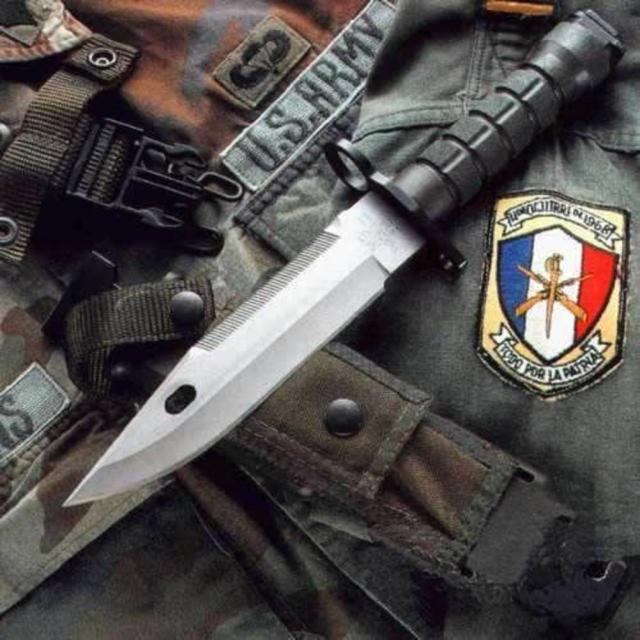Knife: (69, 10, 622, 504)
